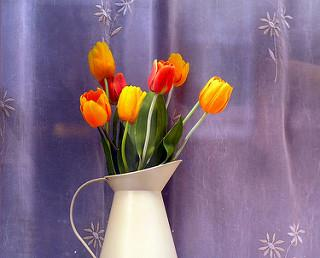tulip: (199, 76, 232, 114), (79, 88, 111, 127), (88, 43, 116, 78), (148, 58, 175, 92), (119, 87, 145, 120)
